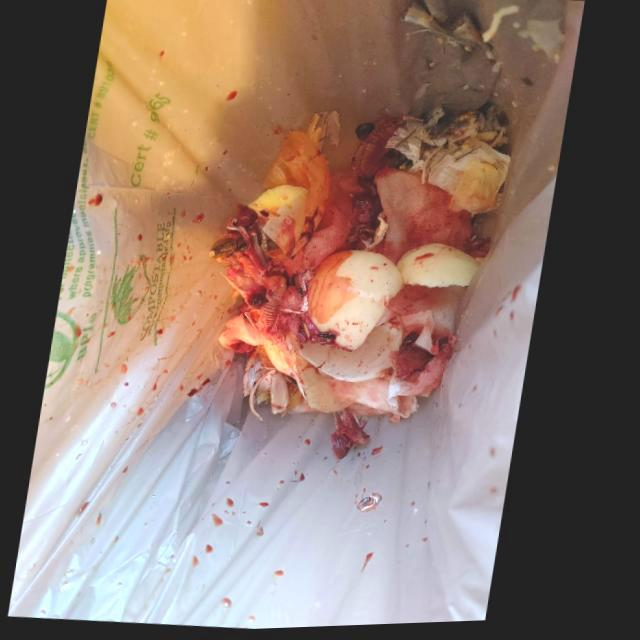left_over_food: (310, 253, 409, 355)
